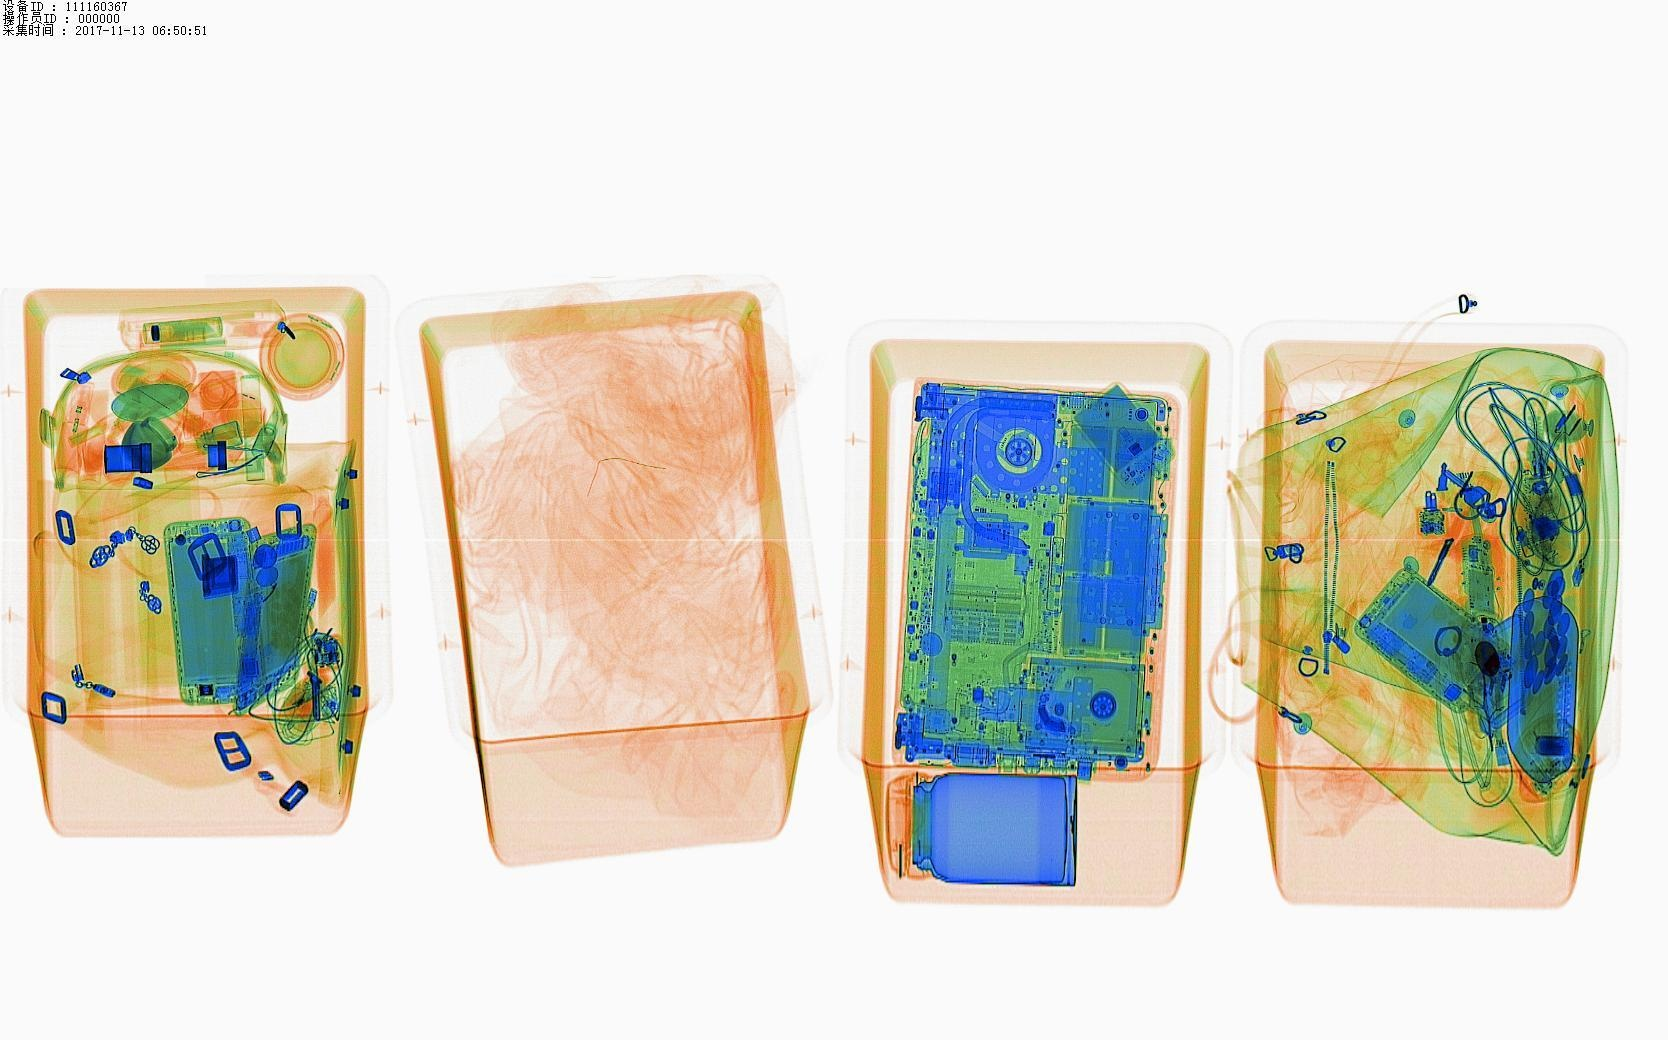coreless: (1075, 383, 1158, 468)
